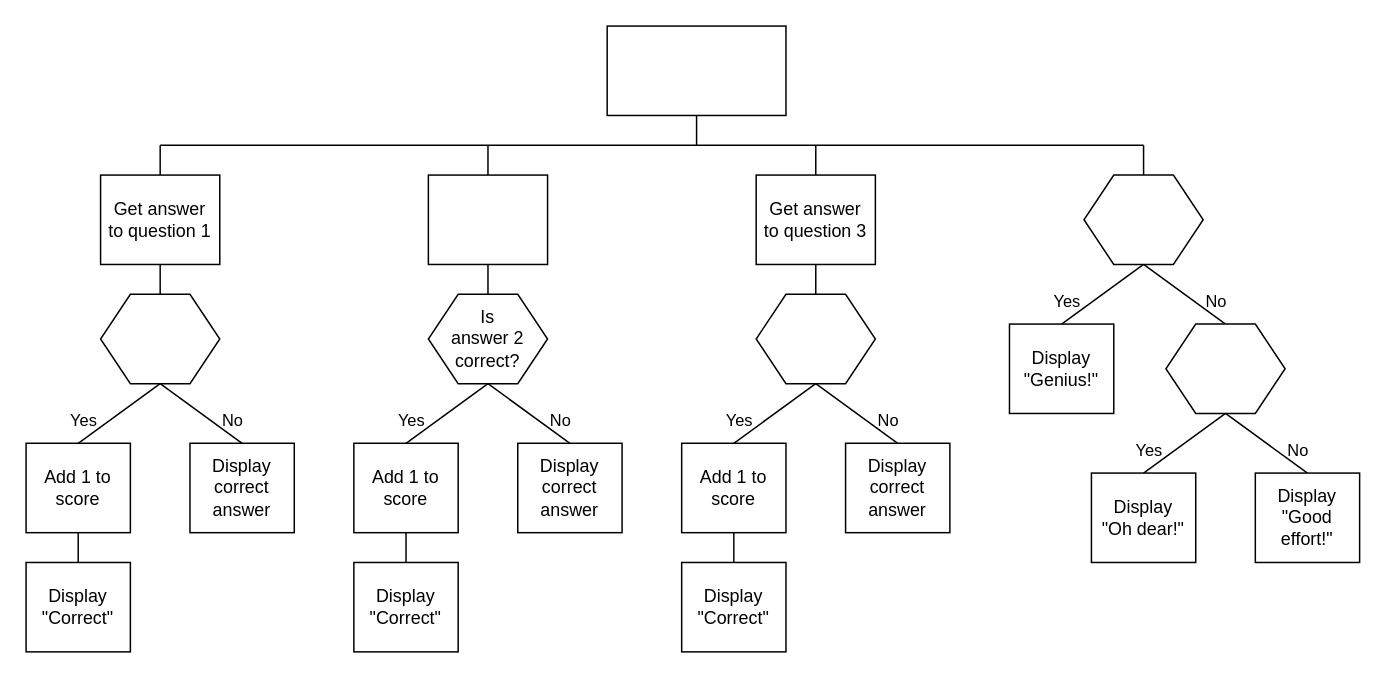
Image size: 1386x678. Some labels were removed from this diagram. The box of each missing label's shape, as (x1, y1, x2, y2) in pixels:
Get answer to question 2: (427, 174, 548, 264)
Is answer 1 correct?: (99, 293, 220, 384)
Is answer 3 correct?: (755, 293, 875, 384)
Is score less than 1?: (1164, 323, 1285, 413)
Is score more than 2?: (1082, 174, 1203, 264)
The Chase: (606, 25, 786, 115)
